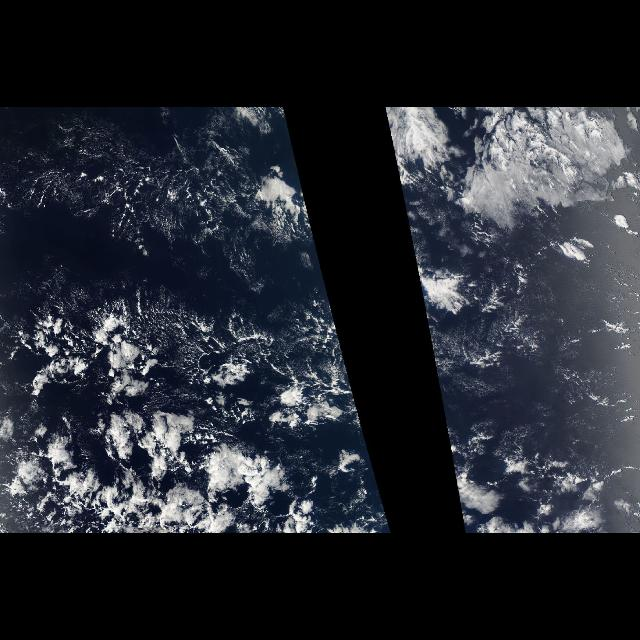Flower: (10, 119, 390, 529), (387, 119, 635, 529)
Gravel: (4, 290, 388, 532), (34, 118, 250, 256)
Sugar: (7, 120, 227, 284), (438, 322, 634, 442)
